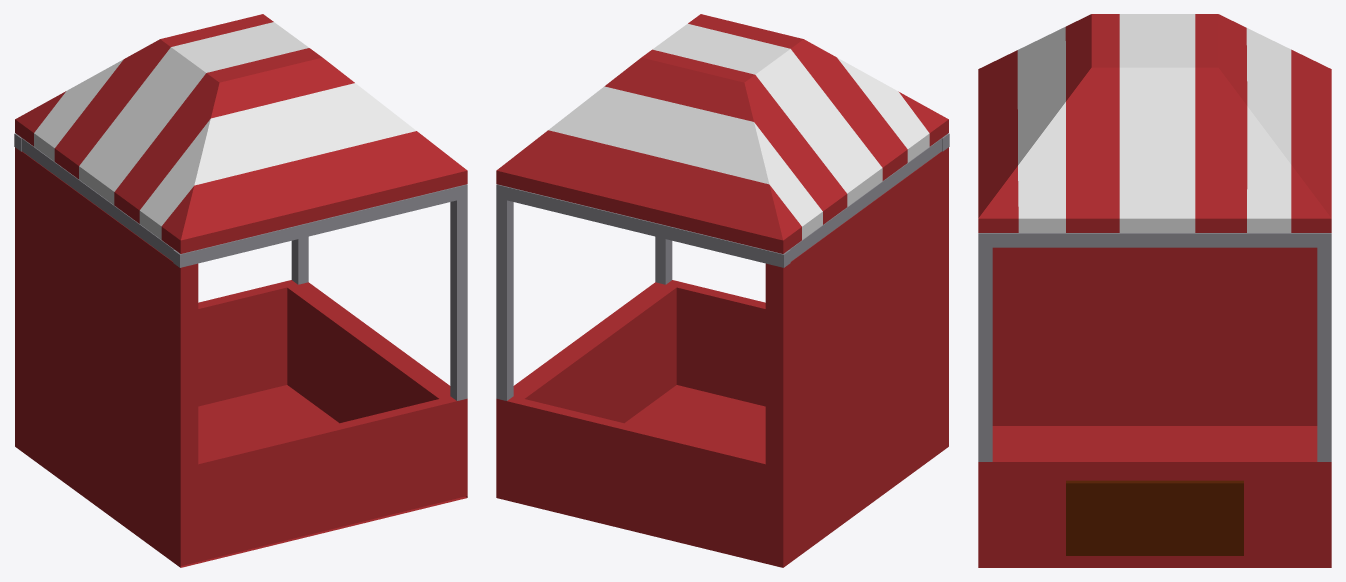
The model's file is cupbooth1.fbx.
The picture shows the model from 3 angles, left to right: view 1: azimuth 30°, elevation 25°; view 2: azimuth 150°, elevation 25°; view 3: azimuth 270°, elevation 25°; orthographic projection. The views are drawn at different scales.
Parts seen in each view (by area): view 1: Bottom, Top, Back, Supports; view 2: Bottom, Top, Back, Supports; view 3: Top, Bottom, Back, Sign, Supports.
Boxes of the visible parts, left/top/right/bottom form: Bottom: left=15, top=280, right=467, bottom=567; Top: left=15, top=14, right=467, bottom=253; Back: left=15, top=147, right=198, bottom=468; Supports: left=14, top=133, right=467, bottom=400; Bottom: left=496, top=280, right=948, bottom=567; Top: left=496, top=14, right=948, bottom=253; Back: left=765, top=147, right=948, bottom=468; Supports: left=496, top=133, right=949, bottom=400; Top: left=978, top=14, right=1331, bottom=232; Bottom: left=978, top=321, right=1331, bottom=567; Back: left=992, top=247, right=1317, bottom=321; Sign: left=1066, top=480, right=1243, bottom=555; Supports: left=978, top=233, right=1331, bottom=461.
Bounding box in the file's own units: 902 × 1246 × 882.
